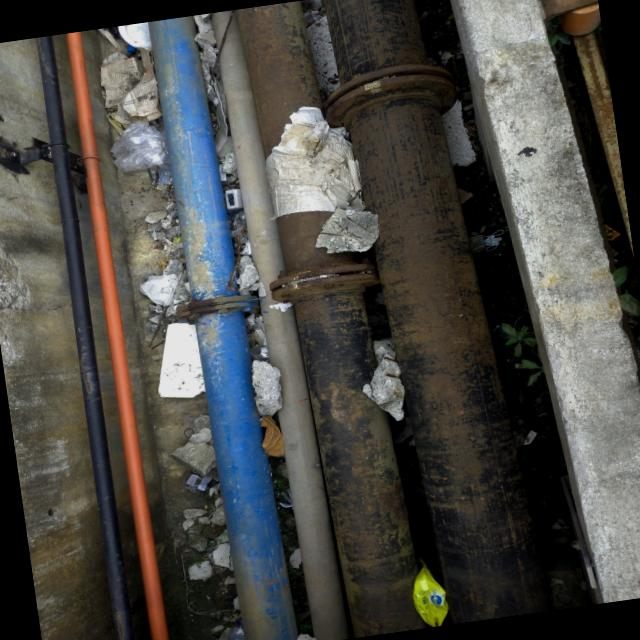gas: (328, 0, 549, 622), (232, 0, 425, 638), (148, 15, 300, 640), (65, 31, 172, 640), (34, 35, 134, 640)
